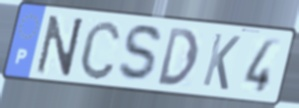4: (241, 36, 279, 96)
C: (77, 18, 123, 82)
D: (156, 26, 200, 88)
K: (200, 31, 243, 93)
N: (34, 13, 87, 77)
S: (115, 22, 165, 85)
